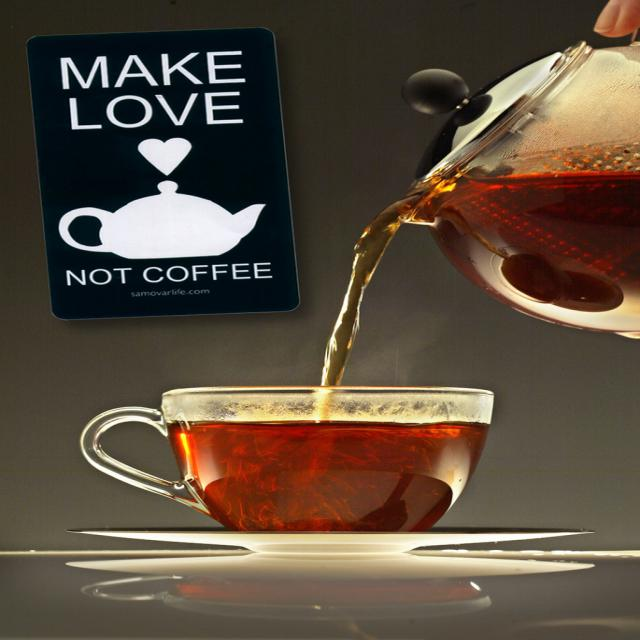Tea: (309, 144, 639, 420), (165, 414, 493, 532)
